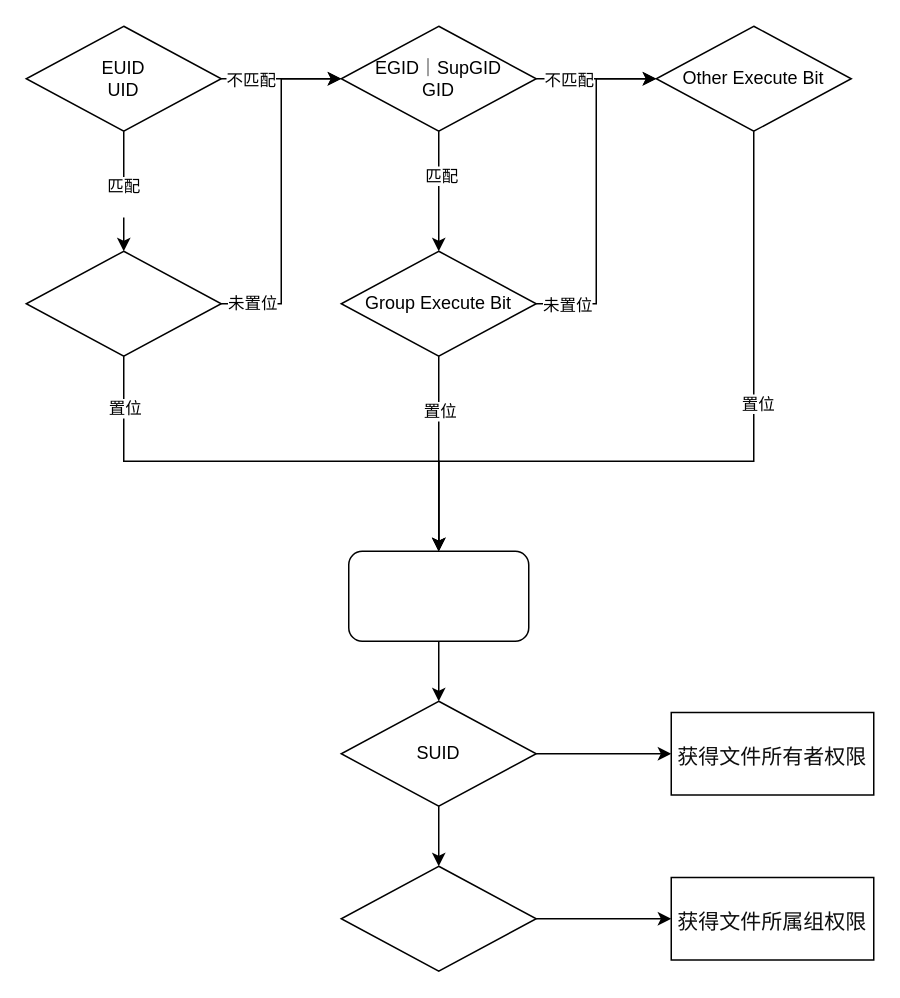
The diagram is 900 pixels wide and 998 high, and some of its shapes have lost their labels. Here are the shapes that lost their labels. From the top down, the centre of each, then its label:
At pixel 123 303: "Owner Execute Bit".
At pixel 438 595: "通过".
At pixel 438 918: "SGID".
